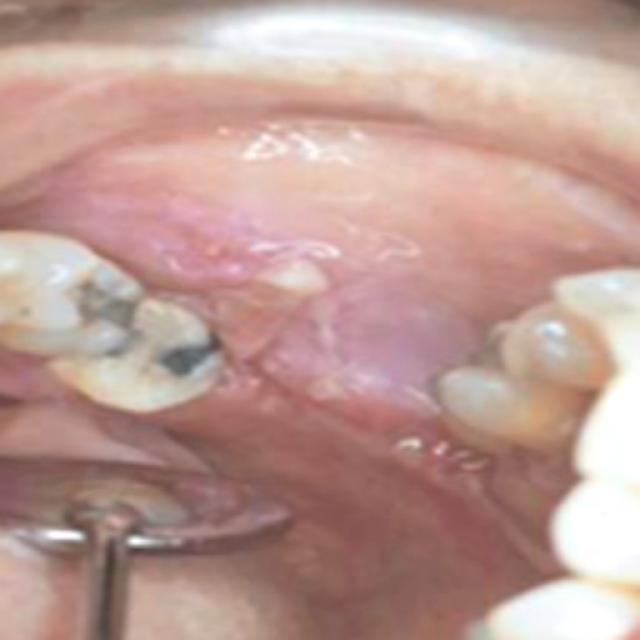cancer-detection: (5, 164, 549, 451)
processing_area: (0, 33, 639, 639)
